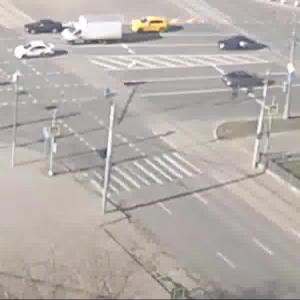car: (63, 19, 126, 47), (223, 69, 265, 91), (24, 18, 68, 39), (219, 36, 263, 53), (129, 16, 168, 35), (16, 44, 58, 61)
